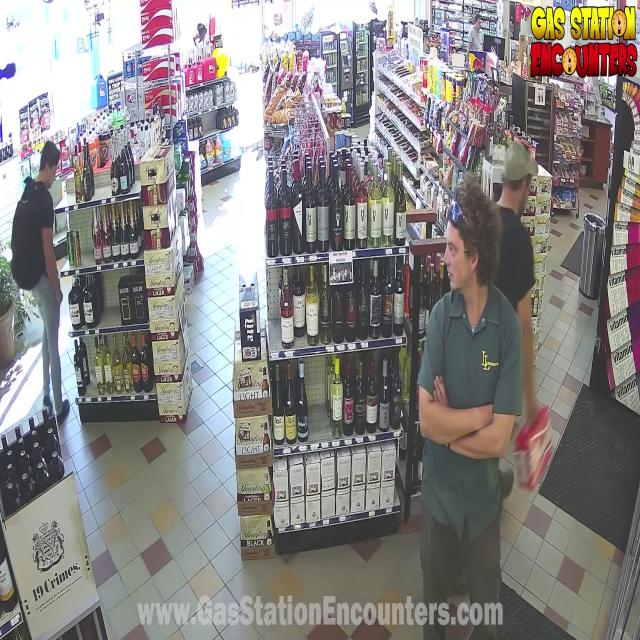Product: (520, 421, 553, 475)
normal: (398, 154, 546, 640), (2, 136, 79, 423)
shoplifting: (490, 134, 550, 225)
